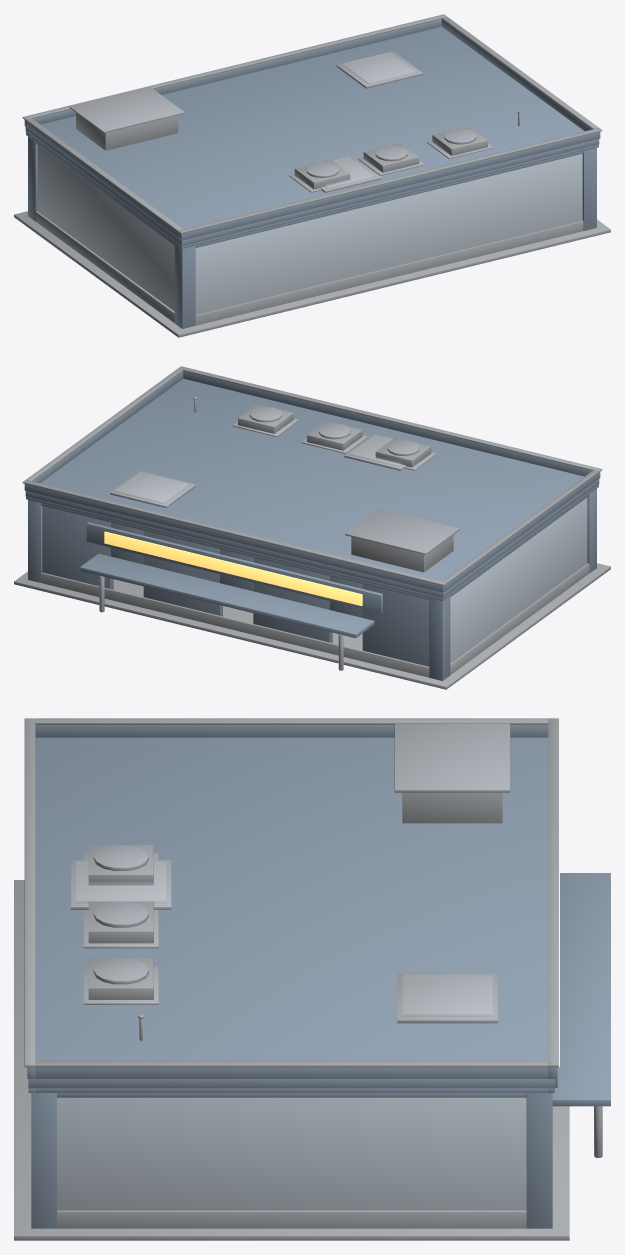
File: th19_eishalle.glb
3 renders of one model, top to bottom at view 1: azimuth 30°, elevation 25°; view 2: azimuth 150°, elevation 25°; view 3: azimuth 270°, elevation 25°, orthographic. The views are drawn at different scales.
Parts seen in each view (by area): view 1: Cube.697, Cube.670, Cube.671, Cube, Cube.677, Cube.689, Cube.716, Cube.690, Cube.693, Cube.715, Cube.723, Cube.694 (+17 smaller); view 2: Cube.697, Cube.671, Cube, Cube.714, Cube.678, Cube.663, Cube.666, Cube.689, Cube.713, Cube.712, Cube.690, Cube.716 (+26 smaller); view 3: Cube.697, Cube.672, Cube, Cube.714, Cube.680, Cube.716, Cube.692, Cube.691, Cube.723, Cube.693, Cube.696, Cube.724 (+17 smaller).
Part boxes in pixels (bbox=[...]): Cube.697: bbox=[25, 26, 599, 245]; Cube.670: bbox=[195, 154, 582, 314]; Cube.671: bbox=[37, 145, 174, 311]; Cube: bbox=[14, 211, 610, 337]; Cube.677: bbox=[195, 220, 583, 325]; Cube.689: bbox=[179, 132, 600, 240]; Cube.716: bbox=[69, 87, 184, 132]; Cube.690: bbox=[24, 19, 441, 127]; Cube.693: bbox=[178, 128, 602, 233]; Cube.715: bbox=[76, 113, 178, 150]; Cube.723: bbox=[336, 51, 422, 88]; Cube.694: bbox=[22, 14, 446, 120]; Cube.697: bbox=[25, 378, 599, 597]; Cube.671: bbox=[450, 497, 587, 663]; Cube: bbox=[14, 563, 610, 689]; Cube.714: bbox=[80, 553, 374, 637]; Cube.678: bbox=[41, 572, 429, 677]; Cube.663: bbox=[362, 584, 429, 666]; Cube.666: bbox=[42, 506, 113, 589]; Cube.689: bbox=[183, 371, 600, 479]; Cube.713: bbox=[104, 531, 362, 606]; Cube.712: bbox=[86, 522, 382, 613]; Cube.690: bbox=[24, 484, 445, 592]; Cube.716: bbox=[345, 509, 459, 554]; Cube.697: bbox=[28, 737, 555, 1088]; Cube.672: bbox=[57, 1097, 526, 1210]; Cube: bbox=[14, 880, 569, 1240]; Cube.714: bbox=[552, 873, 610, 1106]; Cube.680: bbox=[57, 1210, 526, 1228]; Cube.716: bbox=[394, 723, 510, 792]; Cube.692: bbox=[35, 1067, 548, 1078]; Cube.691: bbox=[35, 725, 548, 737]; Cube.723: bbox=[397, 973, 497, 1023]; Cube.693: bbox=[24, 718, 35, 1067]; Cube.696: bbox=[35, 1060, 548, 1067]; Cube.724: bbox=[402, 974, 492, 1016].
Size of the model in its own units: 47 by 11.86 by 33.3.
